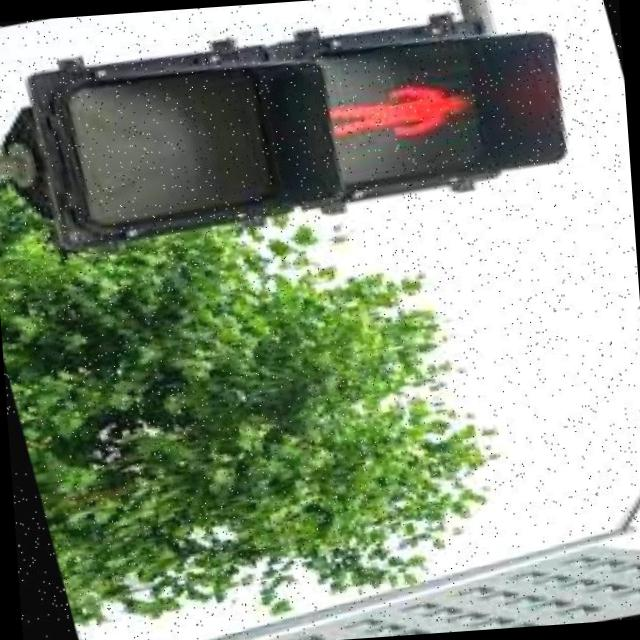red_light: (312, 36, 501, 185)
